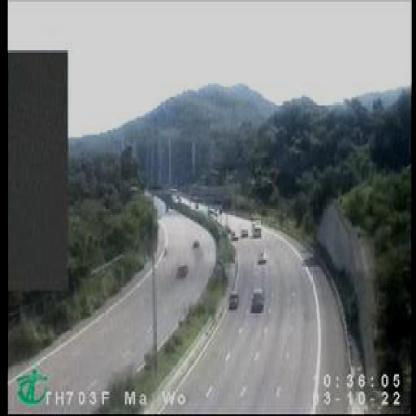Car: (228, 290, 236, 308), (258, 248, 268, 260), (177, 264, 186, 275), (239, 225, 247, 236), (230, 232, 239, 241)
Truck: (252, 286, 264, 309), (251, 218, 260, 234)
